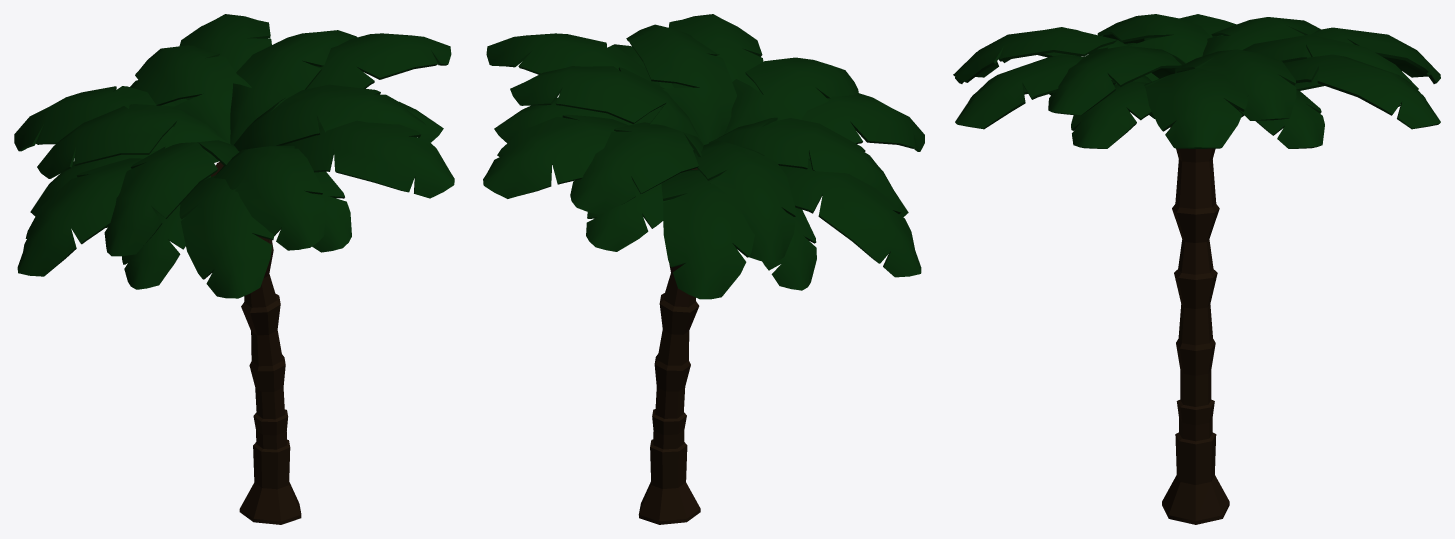
Rendered from palm_tree_left.fbx.
The picture shows the model from 3 angles, left to right: view 1: azimuth 30°, elevation 25°; view 2: azimuth 150°, elevation 25°; view 3: azimuth 270°, elevation 25°; orthographic projection. The views are drawn at different scales.
Parts seen in each view (by area): view 1: Cylinder001, Plane002, Plane003, Plane014, Plane019, Plane007, Plane018, Plane015, Plane016, Plane017, Plane004, Plane006 (+4 smaller); view 2: Plane006, Cylinder001, Plane007, Plane017, Plane005, Plane015, Plane018, Plane016, Plane019, Plane014, Plane004, Plane002 (+4 smaller); view 3: Cylinder001, Plane004, Plane005, Plane015, Plane016, Plane003, Plane014, Plane009, Plane019, Plane017, Plane006, Plane018 (+2 smaller).
Boxes of the visible parts, <box> form: Cylinder001: <box>211,162,301,524</box>; Plane002: <box>179,175,274,298</box>; Plane003: <box>282,120,454,198</box>; Plane014: <box>213,145,325,250</box>; Plane019: <box>104,140,239,256</box>; Plane007: <box>17,158,210,276</box>; Plane018: <box>37,104,230,178</box>; Plane015: <box>234,84,427,151</box>; Plane016: <box>230,30,357,145</box>; Plane017: <box>135,45,243,142</box>; Plane004: <box>306,33,451,89</box>; Plane006: <box>14,86,175,151</box>; Plane006: <box>661,169,754,299</box>; Cylinder001: <box>638,168,700,524</box>; Plane007: <box>779,158,921,277</box>; Plane017: <box>570,122,703,214</box>; Plane005: <box>483,114,628,198</box>; Plane015: <box>626,24,736,144</box>; Plane018: <box>693,140,796,263</box>; Plane016: <box>510,66,703,150</box>; Plane019: <box>709,117,901,205</box>; Plane014: <box>724,57,858,134</box>; Plane004: <box>486,33,661,122</box>; Plane002: <box>801,93,924,152</box>; Cylinder001: <box>1162,126,1229,524</box>; Plane004: <box>1144,68,1248,148</box>; Plane005: <box>1283,54,1440,129</box>; Plane015: <box>1048,46,1186,115</box>; Plane016: <box>1175,49,1296,120</box>; Plane003: <box>955,54,1151,129</box>; Plane014: <box>953,27,1158,82</box>; Plane009: <box>1071,81,1153,148</box>; Plane019: <box>1097,14,1211,62</box>; Plane017: <box>1242,34,1418,89</box>; Plane006: <box>1306,27,1440,83</box>; Plane018: <box>1202,17,1320,55</box>.
Size of the model in its own units: 79.36 by 78.33 by 71.58.
